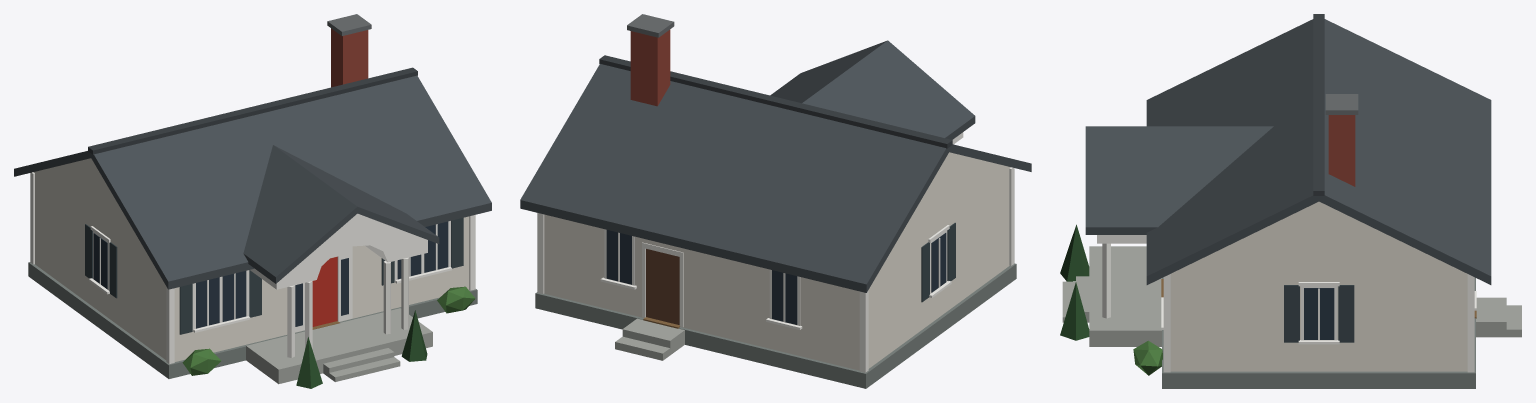
The model's file is ClassicHouse.lod.glb.
3 views of the same model, side by side, from view 1: azimuth 30°, elevation 25°; view 2: azimuth 150°, elevation 25°; view 3: azimuth 270°, elevation 25° (orthographic). The views are drawn at different scales.
Parts seen in each view (by area): view 1: Roof, PorchRoof, Stoop, WallLeft1, WallLeft4, Pediment, Foundation, GableL, RidgeCap, WallFront9, Chimney, WallFront7 (+33 smaller); view 2: Roof, PorchRoof, Foundation, WallBack4, WallLeft4, WallLeft1, WallBack9, WallBack1, GableL, RidgeCap, Chimney, BackDoor (+14 smaller); view 3: Roof, PorchRoof, WallRight1, WallRight4, GableR, Stoop, Foundation, RidgeCap, Chimney, SideGlassR, BackStep, SideShutterBackR (+14 smaller).
Part boxes in pixels (x1,y1,x2,y2): Roof: (14, 75, 491, 289); PorchRoof: (243, 145, 439, 283); Stoop: (246, 308, 432, 384); WallLeft1: (35, 173, 94, 307); WallLeft4: (108, 226, 166, 359); Pediment: (250, 213, 427, 289); Foundation: (28, 262, 477, 378); GableL: (34, 158, 147, 254); RidgeCap: (88, 67, 417, 154); WallFront9: (339, 245, 397, 321); Chimney: (331, 28, 368, 87); WallFront7: (245, 279, 304, 344); Roof: (520, 64, 1031, 292); PorchRoof: (770, 40, 975, 139); Foundation: (535, 263, 1016, 388); WallBack4: (680, 247, 772, 349); WallLeft4: (945, 168, 1008, 312); WallLeft1: (868, 225, 930, 368); WallBack9: (544, 214, 607, 308); WallBack1: (797, 277, 859, 370); GableL: (888, 152, 1009, 256); RidgeCap: (599, 55, 952, 148); Chimney: (630, 29, 670, 106); BackDoor: (646, 249, 679, 324); Roof: (1146, 19, 1491, 284); PorchRoof: (1085, 126, 1273, 234); WallRight1: (1334, 269, 1466, 371); WallRight4: (1171, 269, 1303, 371); GableR: (1180, 201, 1457, 269); Stoop: (1089, 246, 1161, 346); Foundation: (1162, 277, 1475, 388); RidgeCap: (1313, 14, 1324, 195); Chimney: (1328, 115, 1355, 186); SideGlassR: (1304, 288, 1334, 339); BackStep: (1476, 297, 1506, 337); SideShutterBackR: (1338, 285, 1354, 342).
Size of the model in its own units: 10.95 by 7.54 by 12.07.
